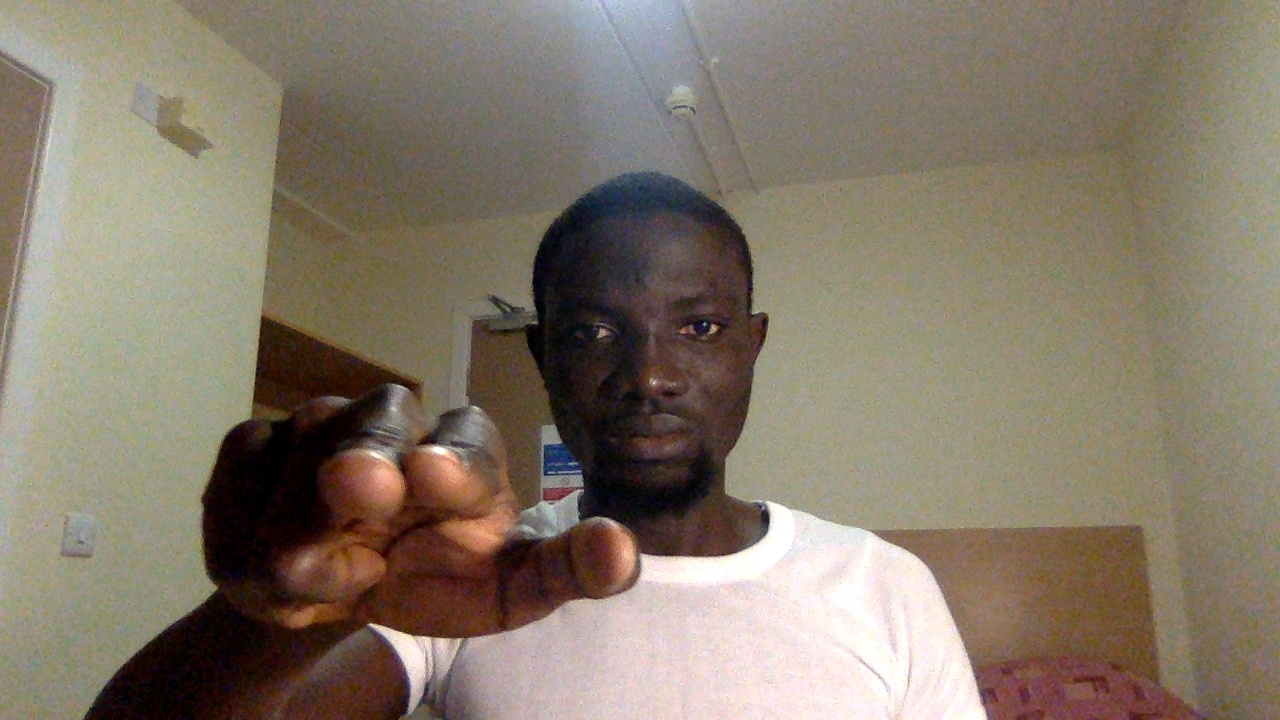No: (191, 373, 654, 677)
